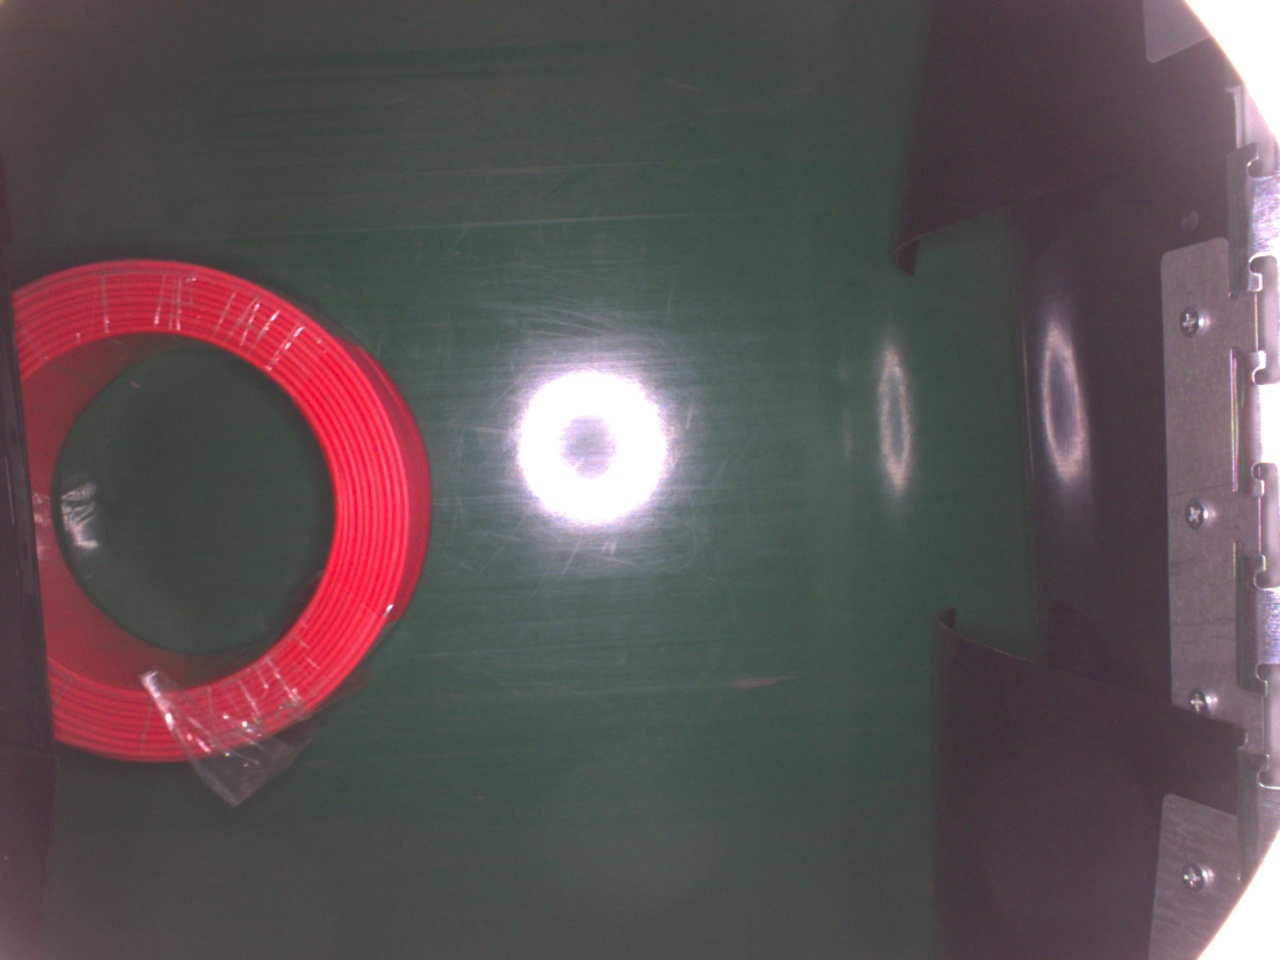red: (17, 261, 433, 765)
